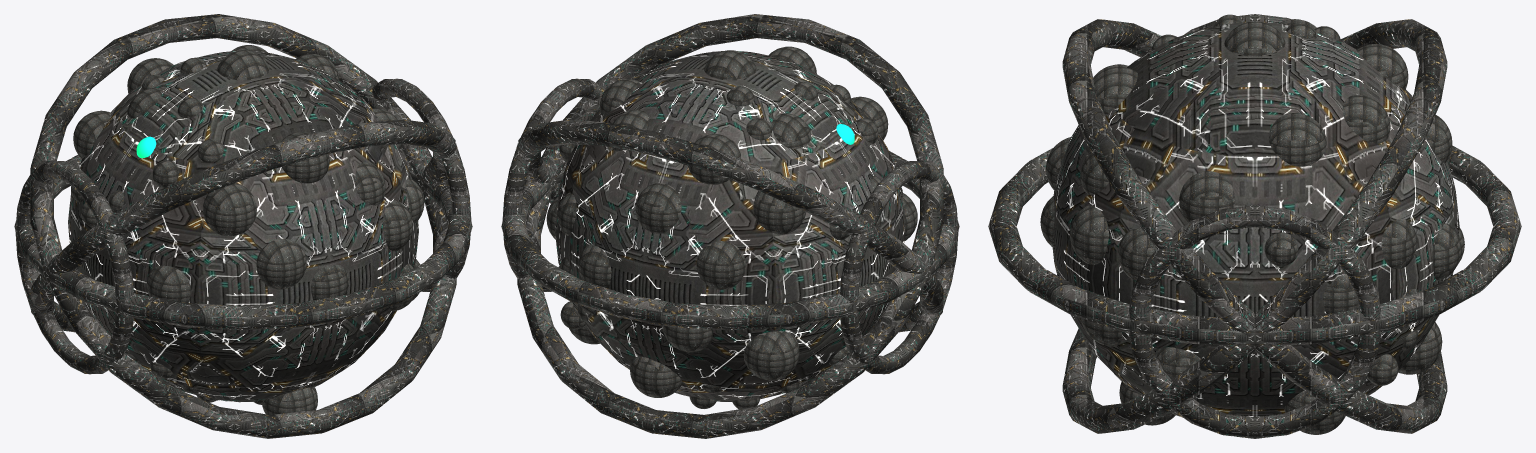
Rendered from satellite.glb.
The picture shows the model from 3 angles, left to right: view 1: azimuth 30°, elevation 25°; view 2: azimuth 150°, elevation 25°; view 3: azimuth 270°, elevation 25°; orthographic projection. The views are drawn at different scales.
Visible parts, largest first — view 1: Sphere001, Torus002, Torus001, Torus003, Torus004, Torus005, Sphere004, Sphere011, Sphere059, Sphere002, Sphere095, Sphere096 (+10 smaller); view 2: Sphere001, Torus003, Torus001, Torus002, Torus004, Torus005, Sphere020, Sphere021, Sphere023, Sphere082, Sphere015, Sphere002 (+13 smaller); view 3: Sphere001, Torus001, Torus002, Torus003, Torus005, Sphere006, Sphere091, Sphere095, Sphere014, Sphere002, Sphere003, Sphere022 (+14 smaller).
Part boxes in pixels (bbox=[...]): Sphere001: bbox=[68, 51, 418, 402]; Torus002: bbox=[30, 14, 456, 438]; Torus001: bbox=[14, 150, 472, 330]; Torus003: bbox=[30, 119, 456, 332]; Torus004: bbox=[15, 161, 133, 374]; Torus005: bbox=[372, 78, 471, 291]; Sphere004: bbox=[203, 183, 256, 236]; Sphere011: bbox=[256, 238, 306, 289]; Sphere059: bbox=[146, 265, 190, 302]; Sphere002: bbox=[217, 50, 269, 80]; Sphere095: bbox=[382, 200, 412, 251]; Sphere096: bbox=[262, 386, 317, 414]; Sphere001: bbox=[555, 51, 905, 401]; Torus003: bbox=[517, 14, 943, 438]; Torus001: bbox=[501, 151, 959, 330]; Torus002: bbox=[517, 119, 943, 332]; Torus004: bbox=[840, 161, 958, 374]; Torus005: bbox=[502, 78, 601, 291]; Sphere020: bbox=[743, 331, 799, 380]; Sphere021: bbox=[696, 241, 745, 289]; Sphere023: bbox=[635, 183, 681, 233]; Sphere082: bbox=[630, 356, 682, 397]; Sphere015: bbox=[753, 190, 806, 234]; Sphere002: bbox=[704, 50, 756, 80]; Sphere001: bbox=[1052, 22, 1459, 417]; Torus001: bbox=[988, 145, 1521, 345]; Torus002: bbox=[1062, 19, 1447, 433]; Torus003: bbox=[1062, 19, 1447, 433]; Torus005: bbox=[1128, 205, 1381, 438]; Sphere006: bbox=[1269, 113, 1326, 166]; Sphere091: bbox=[1179, 171, 1234, 222]; Sphere095: bbox=[1069, 205, 1108, 264]; Sphere014: bbox=[1342, 95, 1390, 143]; Sphere002: bbox=[1224, 21, 1285, 56]; Sphere003: bbox=[1093, 66, 1137, 115]; Sphere022: bbox=[1381, 219, 1417, 268].
Bounding box in the file's own units: 1.09 × 0.8929 × 1.09.
2 materials, 1 textured.
